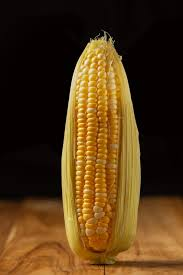milho: (66, 35, 140, 265)
